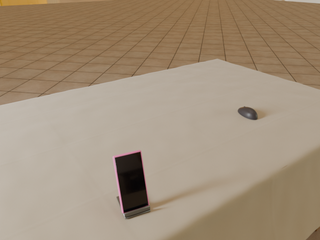mouse: (238, 106, 257, 120)
phone: (113, 150, 149, 213)
